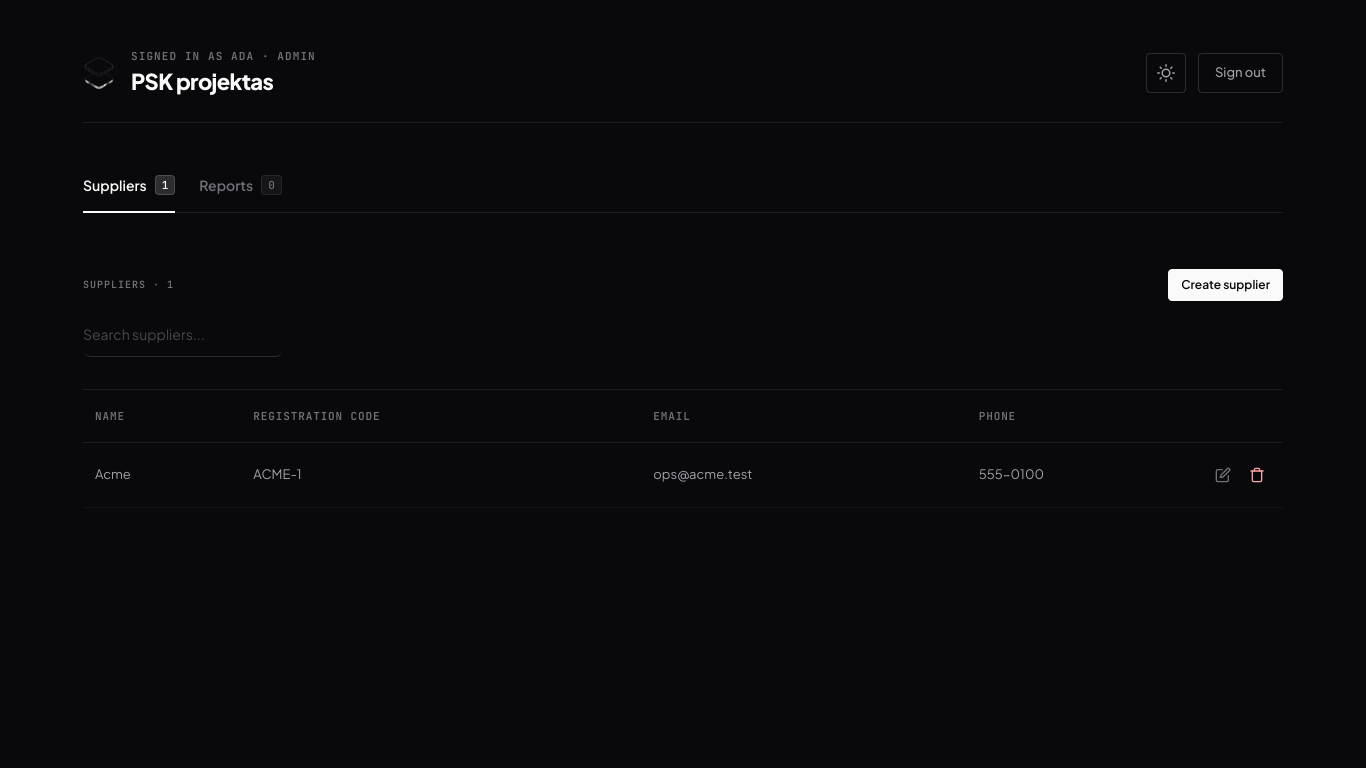
Test: Dashboard › loads the current record after an optimistic locking conflict for another edit attempt
Expected: the button "Acme" is shown, [95,465,229,485]
Click the button titled "Edit": (1223, 475) [1209,461,1237,489]
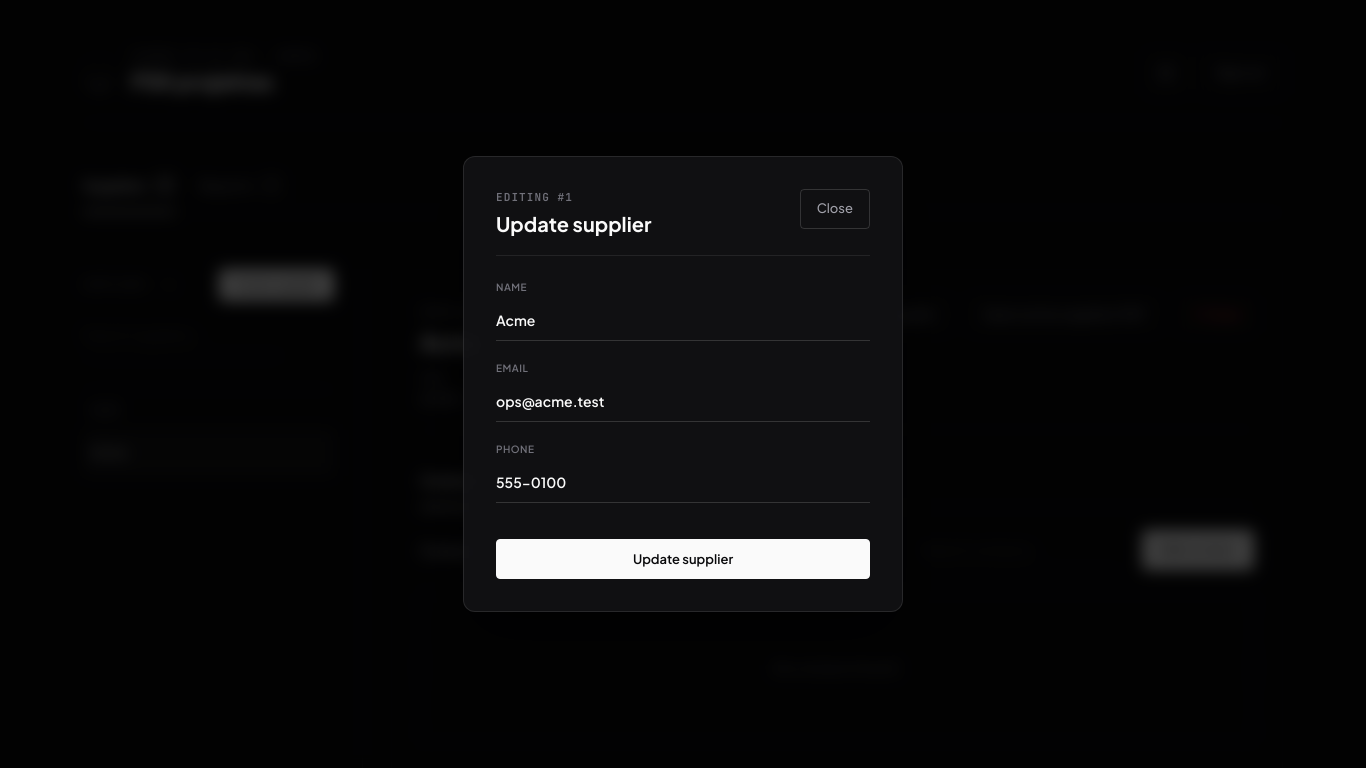
Replace the text in the field labelled "Name" with "Acme Local": (683, 321) [496,301,870,341]
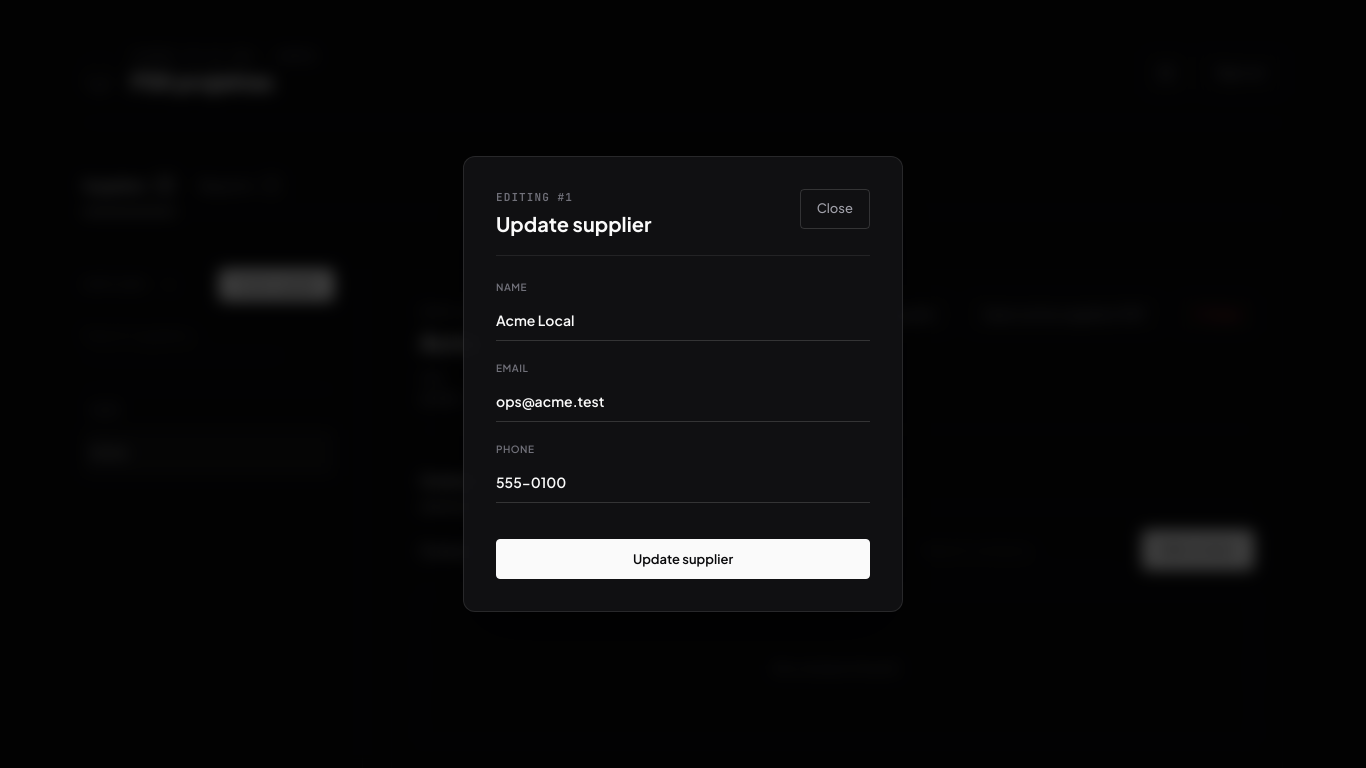
Click the button "Update supplier": (683, 559) [496,539,870,579]
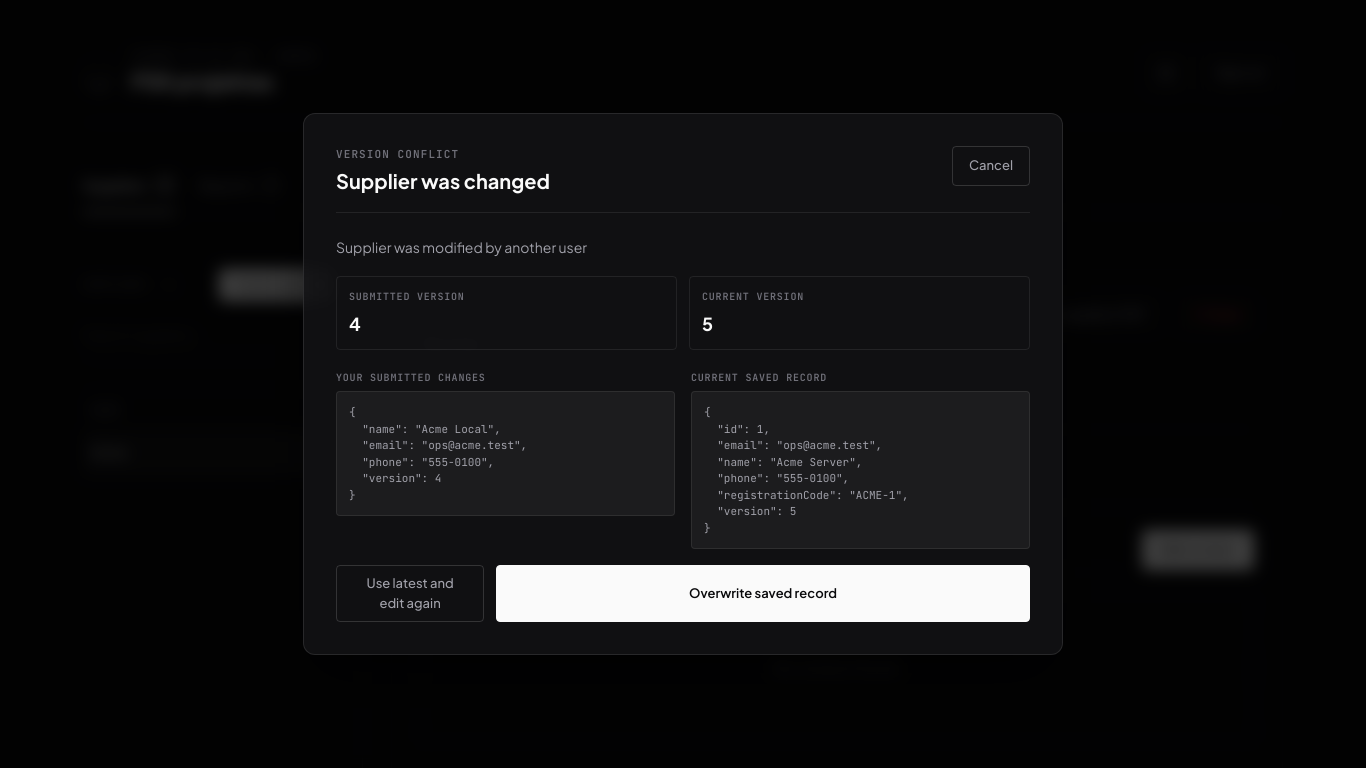
Result: the heading "Supplier was changed" is shown at [336,166,550,196]
Click the button "Use latest and edit again": (410, 594) [336,565,484,622]
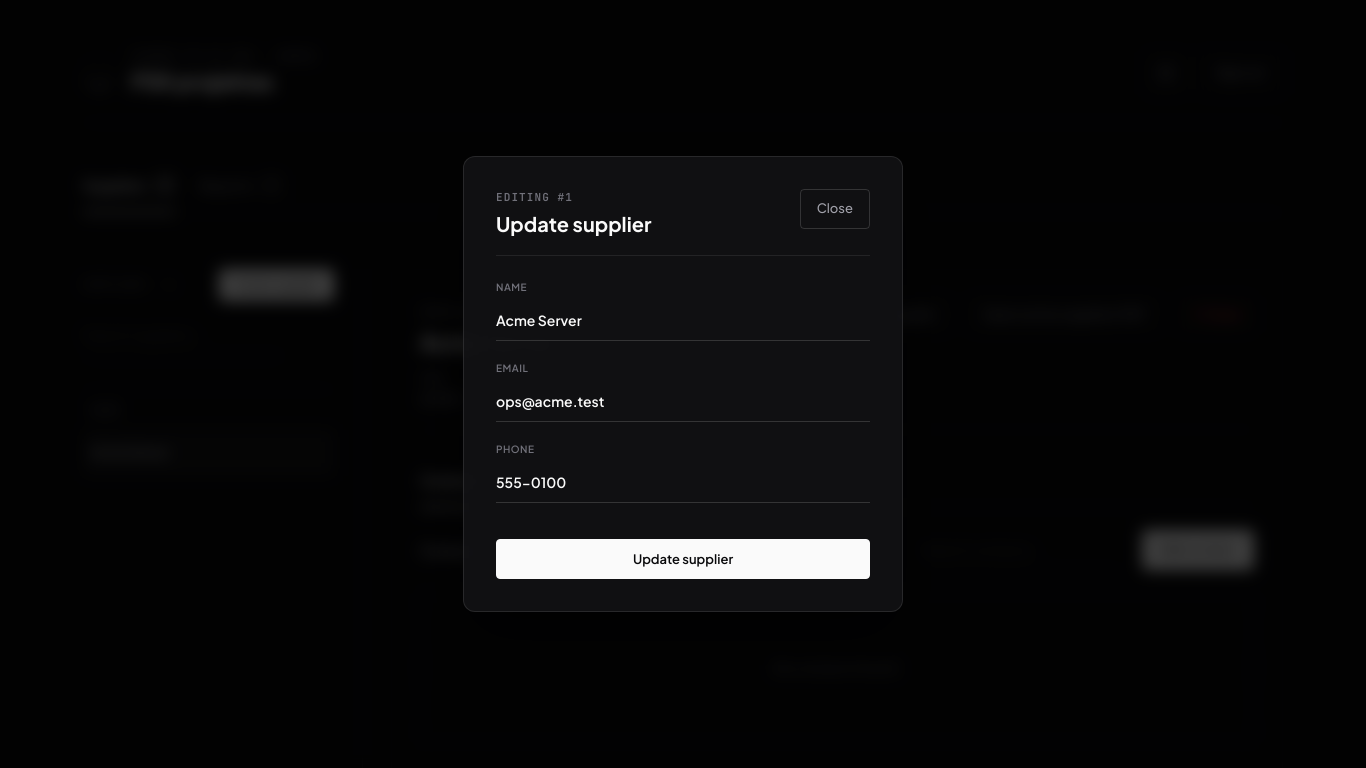
Result: the heading "Update supplier" is shown at [496,209,651,239]
Result: the field labelled "Name" holds "Acme Server" at [496,301,870,341]
